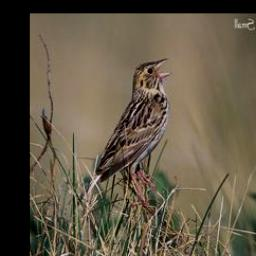Sparrow: (73, 54, 176, 216)
